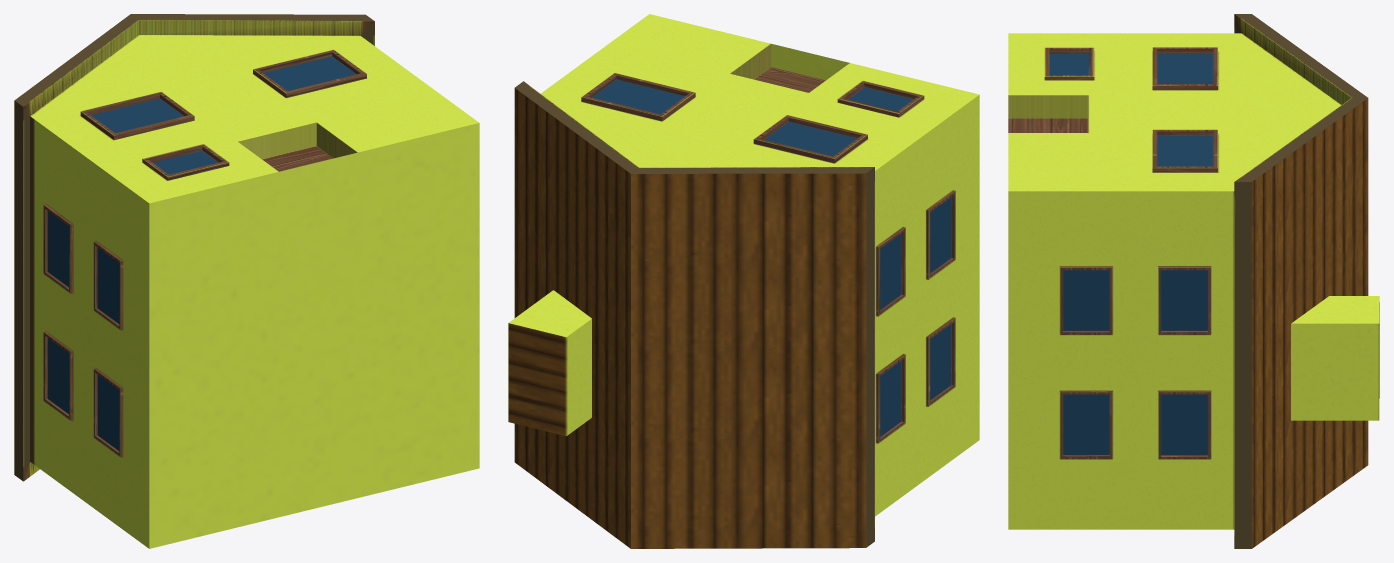
Rendered from house-04.obj.
3 views of the same model, side by side, from view 1: azimuth 30°, elevation 25°; view 2: azimuth 150°, elevation 25°; view 3: azimuth 270°, elevation 25° (orthographic). The views are drawn at different scales.
Parts seen in each view (by area): view 1: house-04_Cube.058; view 2: house-04_Cube.058; view 3: house-04_Cube.058.
Boxes of the visible parts, box(x1,y1,x2,y2) form: house-04_Cube.058: box(14, 14, 479, 548); house-04_Cube.058: box(508, 14, 979, 548); house-04_Cube.058: box(1008, 14, 1379, 548).
Size of the model in its own units: 4.19 by 4.27 by 3.91.
